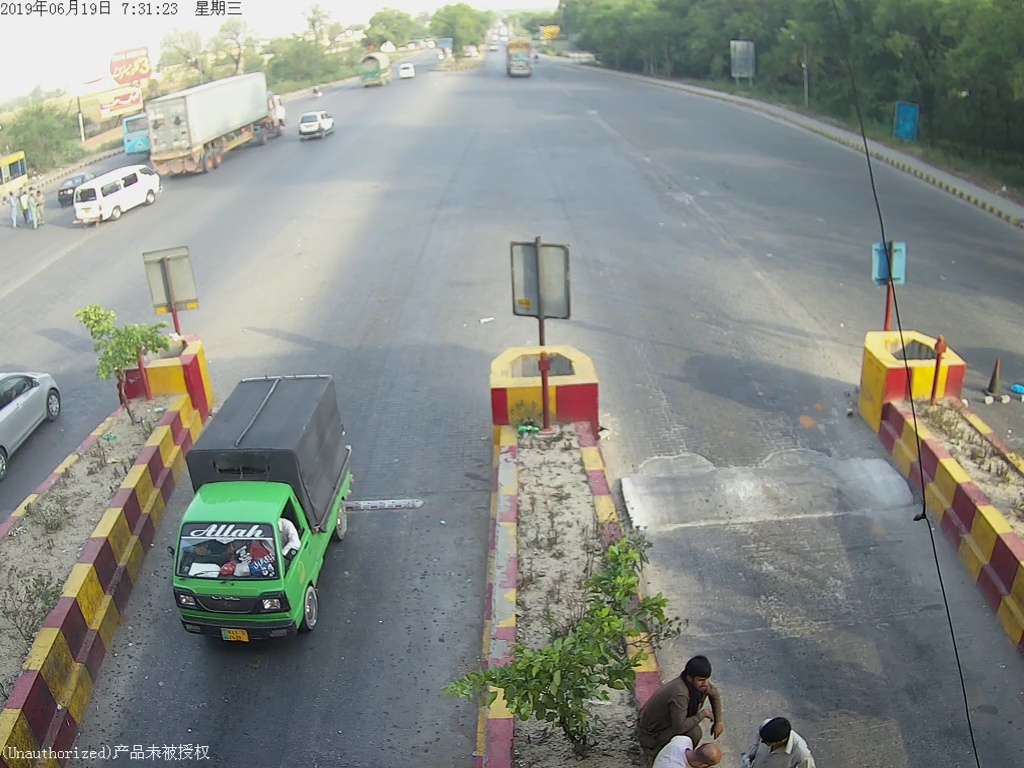Cat-1: (170, 449, 354, 642)
